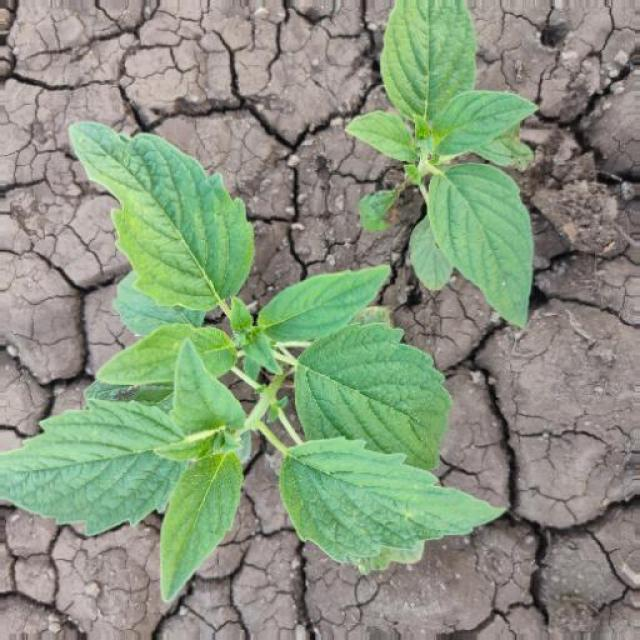crop: (1, 87, 506, 640), (324, 1, 640, 330)
